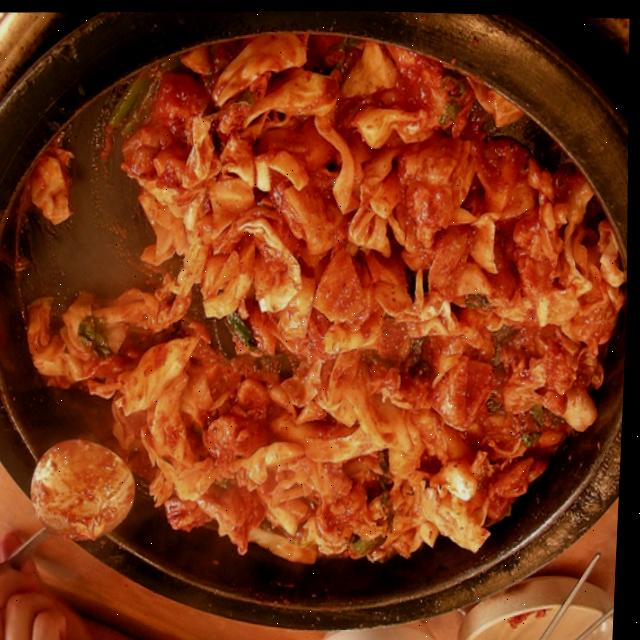鸡肉料理 含炸鸡: (0, 16, 639, 638)
